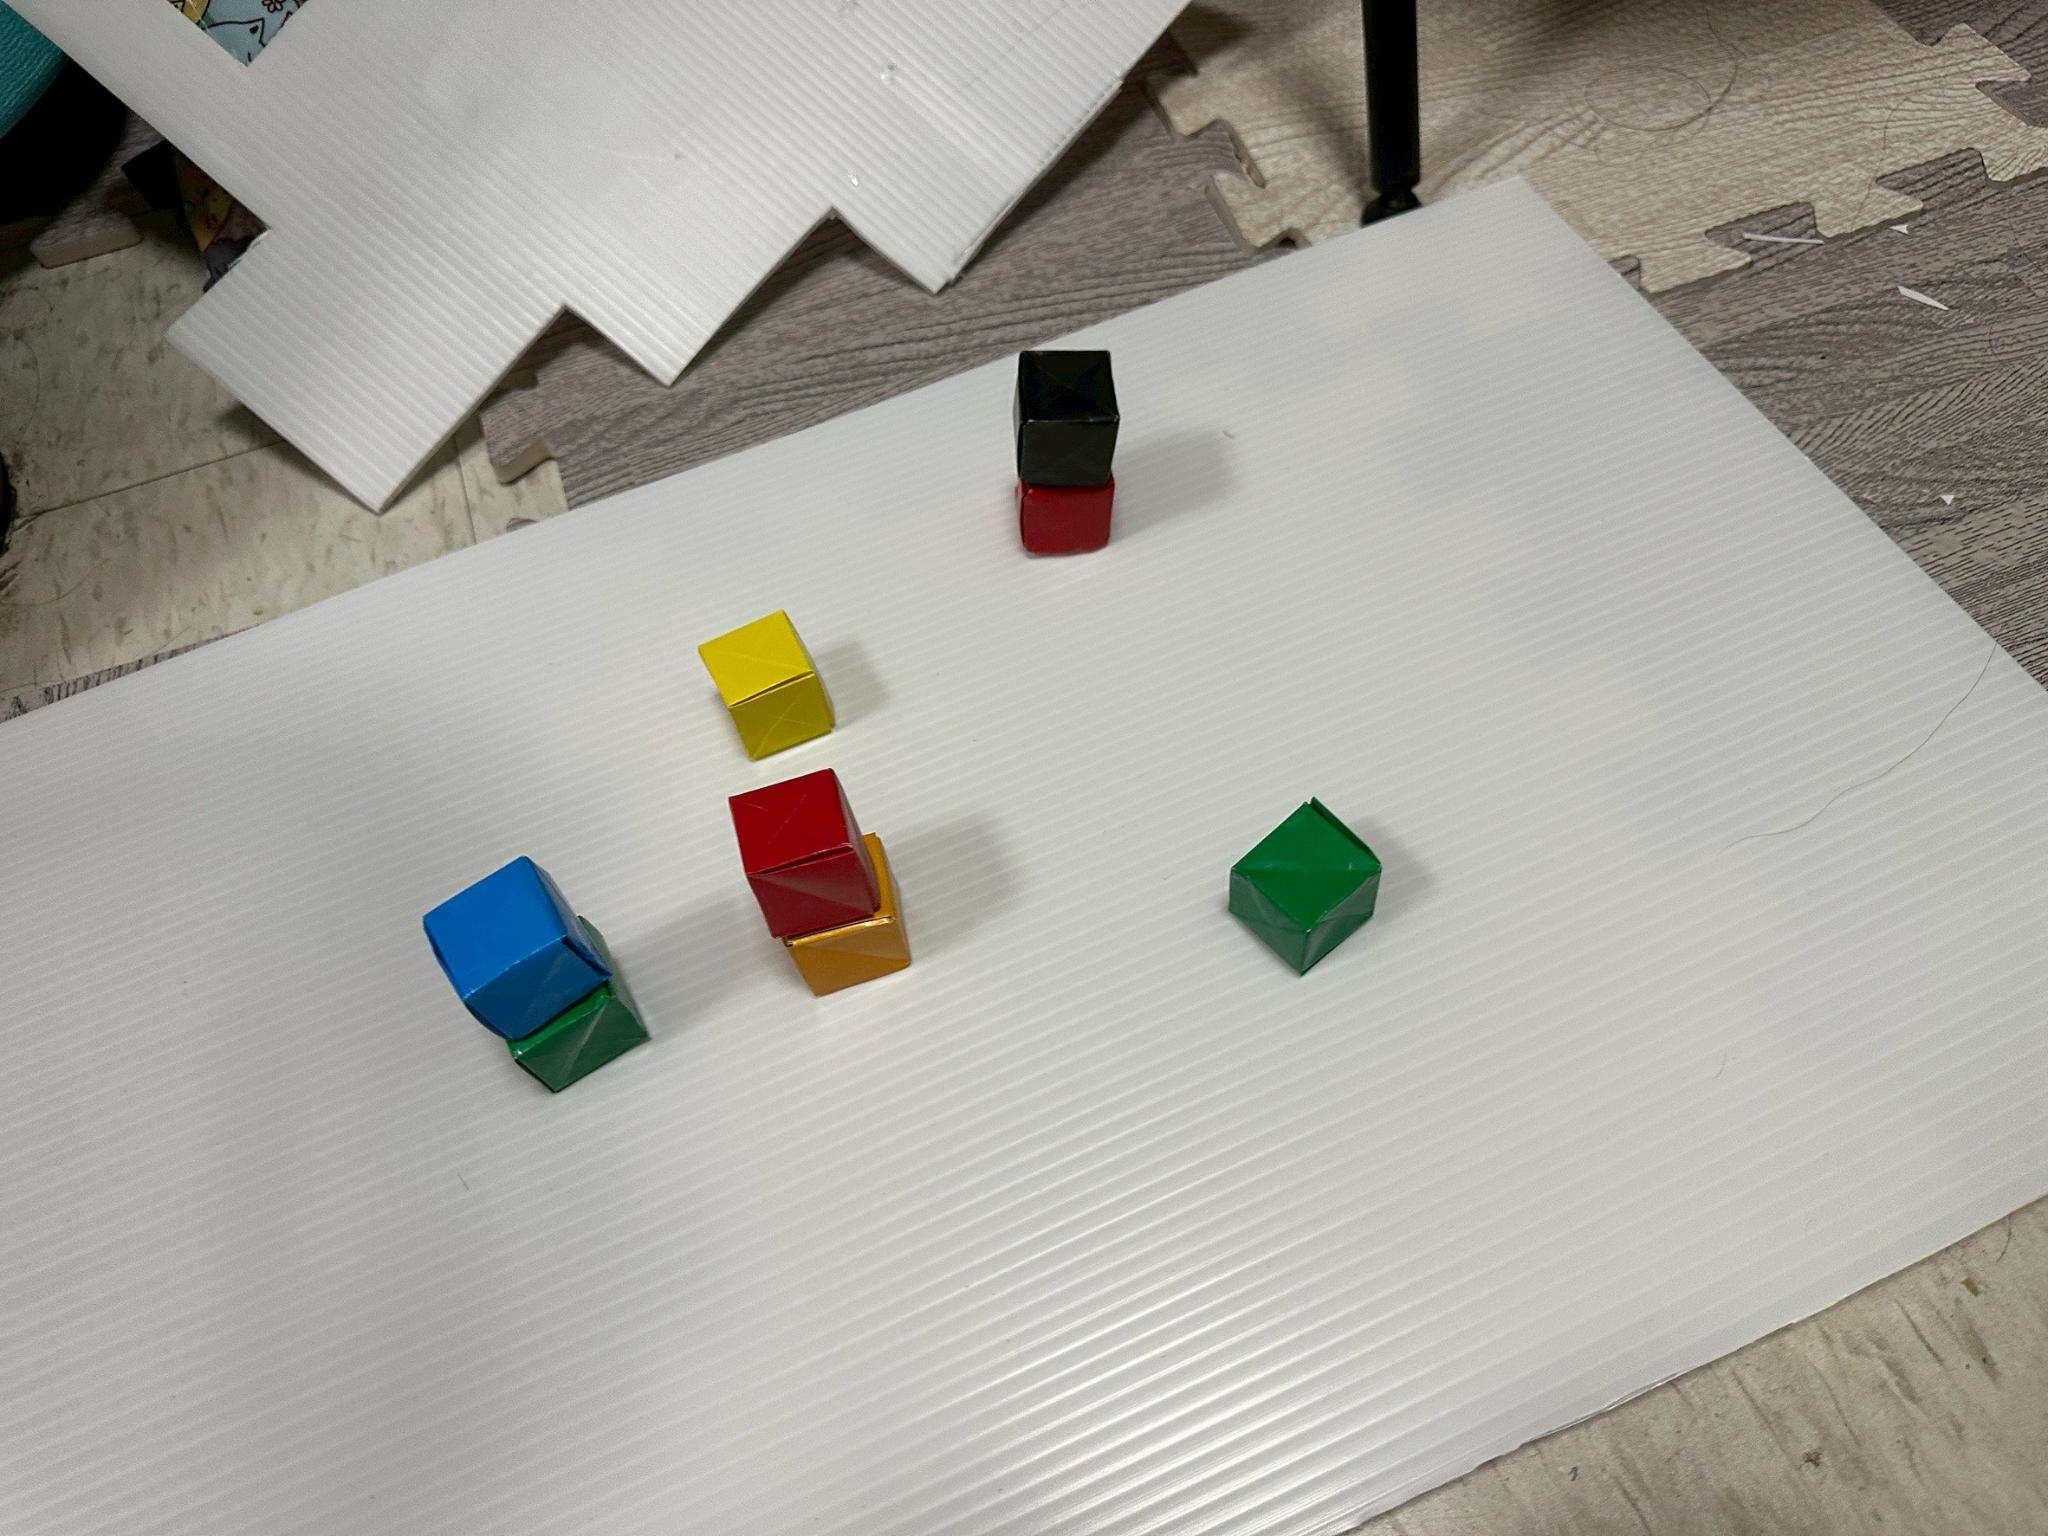cube: (424, 857, 611, 1041), (1229, 800, 1380, 975), (505, 916, 648, 1092), (731, 770, 877, 939), (700, 611, 834, 760), (789, 836, 911, 995), (1016, 350, 1119, 487), (1019, 484, 1111, 555), (1009, 350, 1022, 444)
